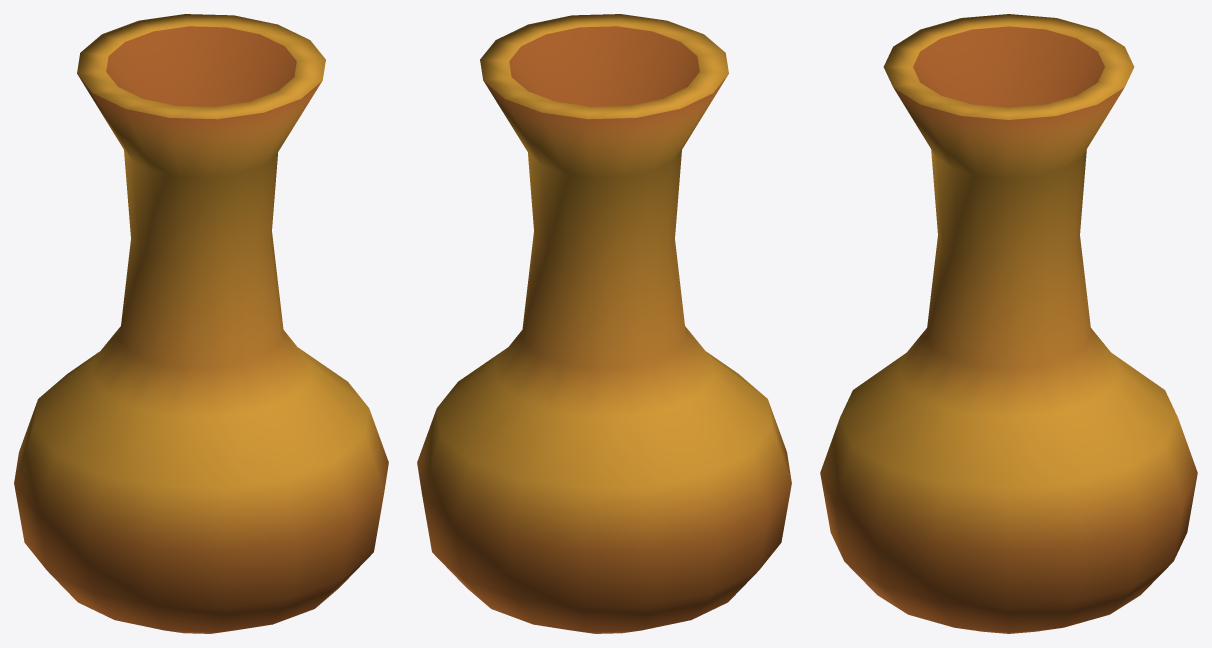
File: furnishings-indoor-vase_v3.glb
The picture shows the model from 3 angles, left to right: view 1: azimuth 30°, elevation 25°; view 2: azimuth 150°, elevation 25°; view 3: azimuth 270°, elevation 25°; orthographic projection.
Parts seen in each view (by area): view 1: Vase_v3; view 2: Vase_v3; view 3: Vase_v3.
Part boxes in pixels (box(x1,y1,x2,y2)): Vase_v3: box(14, 14, 388, 633); Vase_v3: box(417, 14, 791, 633); Vase_v3: box(820, 14, 1197, 633).
Bounding box in the file's own units: 0.4749 × 0.7457 × 0.4749.
